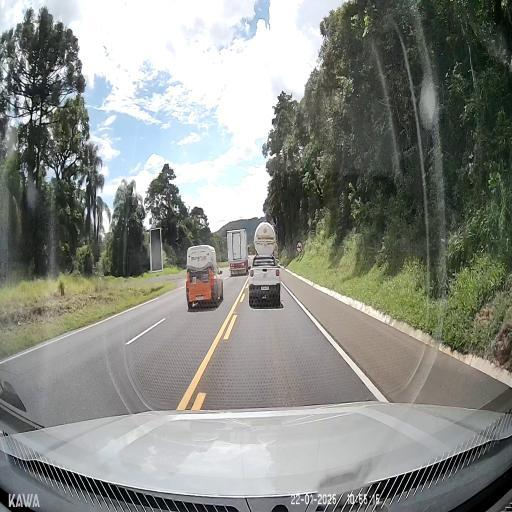R-7: (296, 241, 302, 253)
